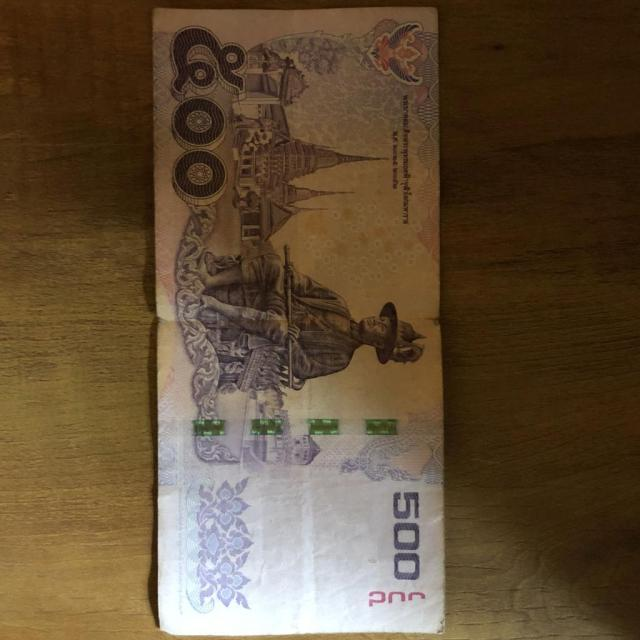THAI500: (154, 8, 444, 635)
